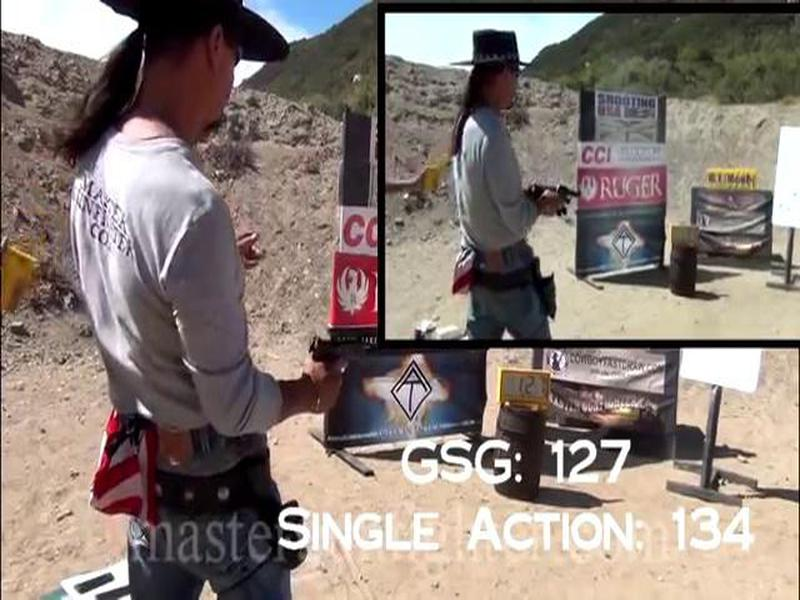Pistola: (299, 321, 382, 413)
